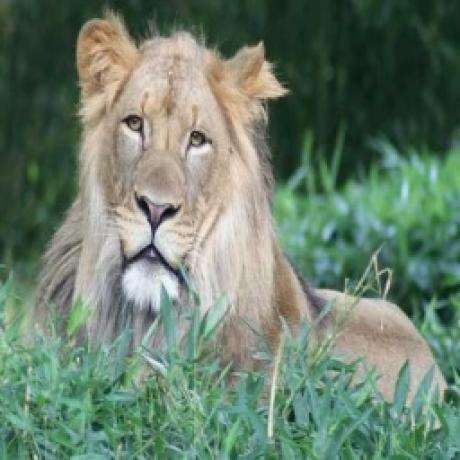Lion: (35, 8, 449, 398)
